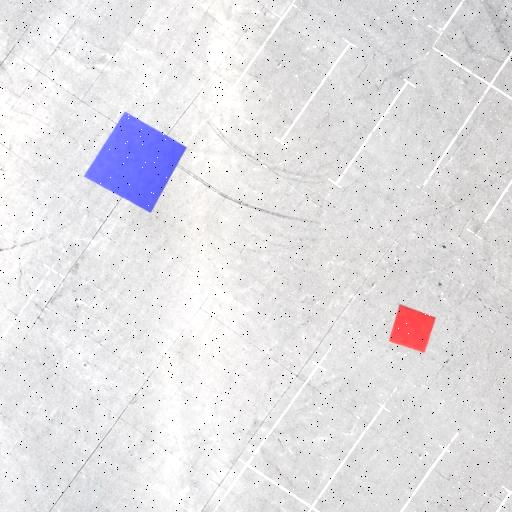BLUE_SQUARE: (83, 111, 188, 214)
RED_SQUARE: (389, 303, 436, 354)
